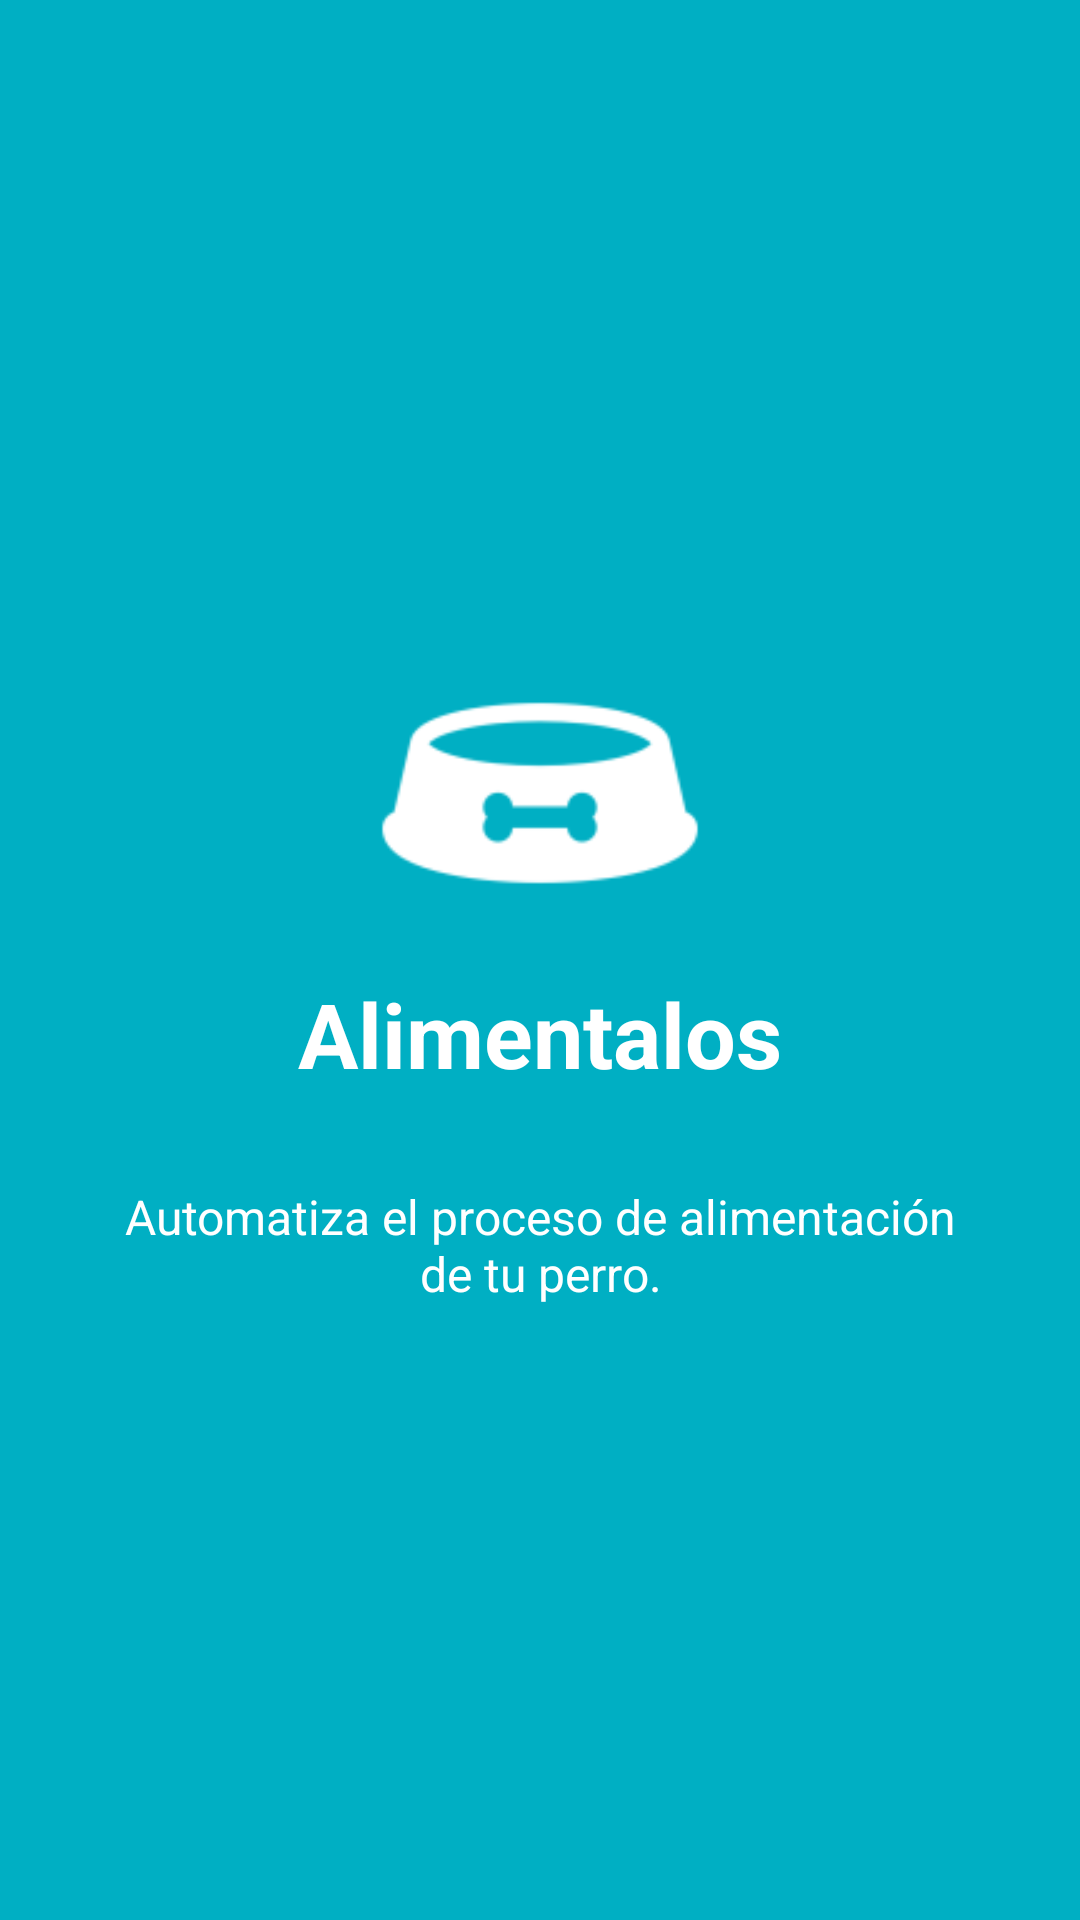

Locate icon controls on the screen. Image size 1080 × 1920, boxes as (x1, y1, x2, y2).
dogfood: (381, 702, 699, 884)
